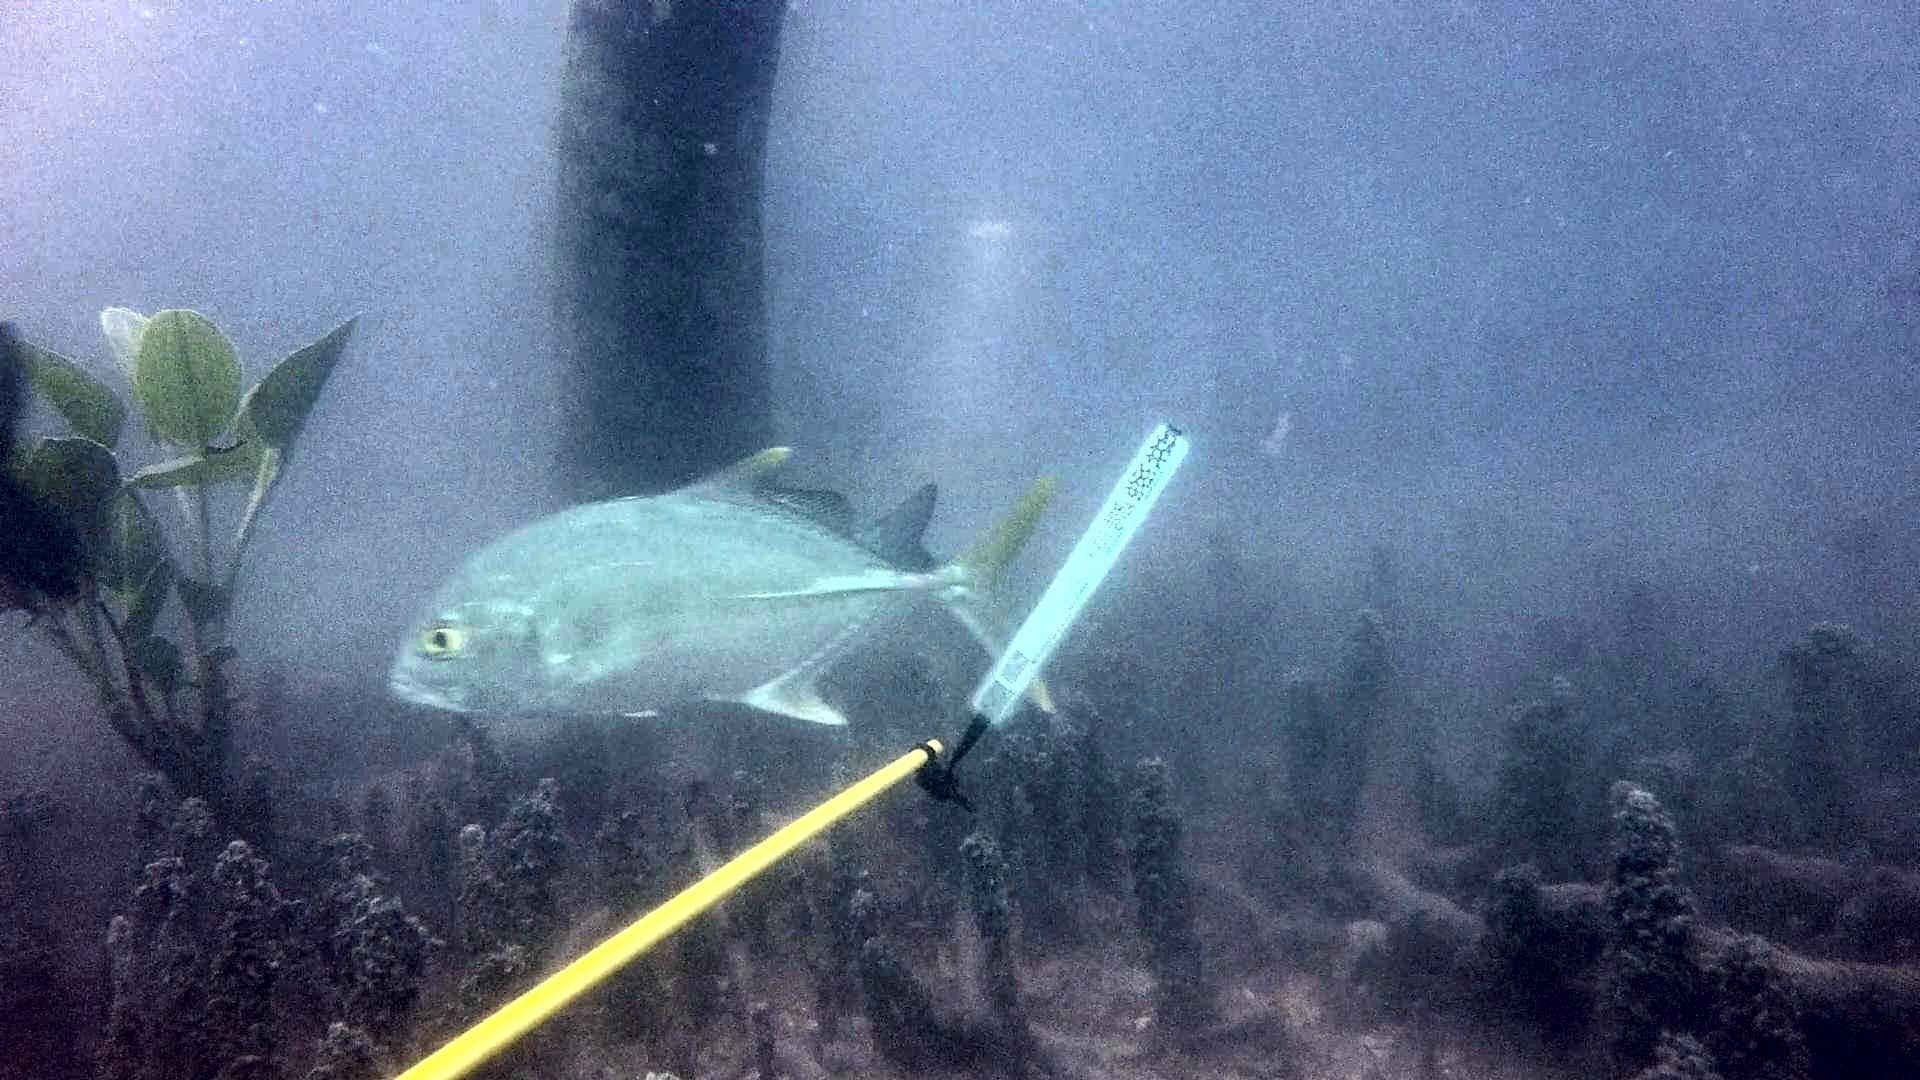caranx: (381, 439, 1077, 736)
